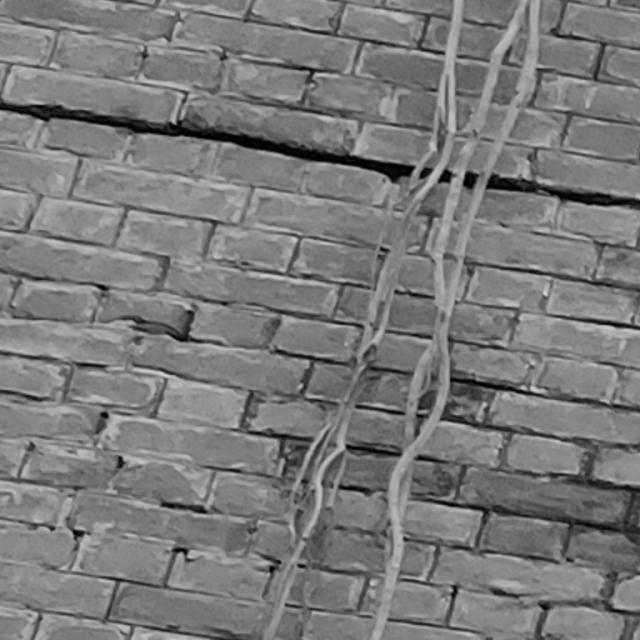crack: (1, 98, 640, 215)
